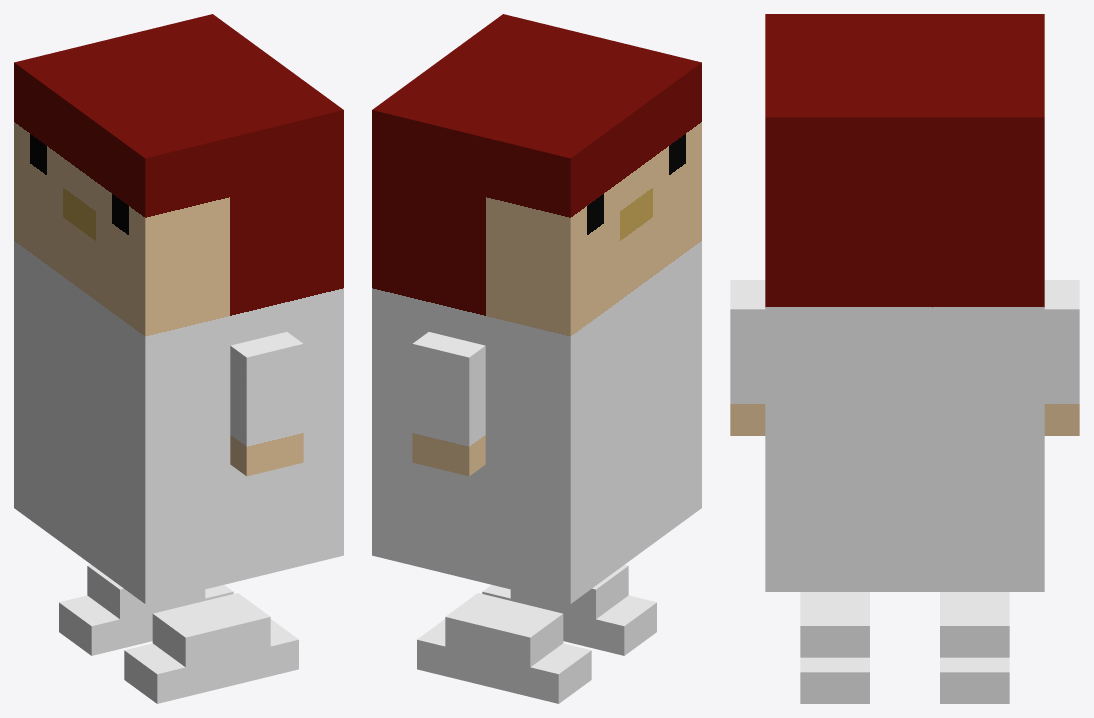
The model's file is Player_0.fbx.
The picture shows the model from 3 angles, left to right: view 1: azimuth 30°, elevation 25°; view 2: azimuth 150°, elevation 25°; view 3: azimuth 270°, elevation 25°; orthographic projection. The views are drawn at different scales.
Visible parts, largest first — view 1: Main, LeftFoot, LeftHand, RightFoot; view 2: Main, RightFoot, RightHand, LeftFoot; view 3: Main, LeftFoot, RightFoot, RightHand, LeftHand.
Boxes of the visible parts, left/top/right/bottom form: Main: left=14, top=14, right=343, bottom=603; LeftFoot: left=124, top=593, right=298, bottom=703; LeftHand: left=230, top=332, right=303, bottom=476; RightFoot: left=59, top=564, right=233, bottom=655; Main: left=372, top=14, right=701, bottom=603; RightFoot: left=417, top=593, right=591, bottom=703; RightHand: left=412, top=332, right=485, bottom=476; LeftFoot: left=482, top=564, right=656, bottom=655; Main: left=765, top=14, right=1044, bottom=591; LeftFoot: left=800, top=592, right=869, bottom=703; RightFoot: left=940, top=592, right=1009, bottom=703; RightHand: left=1044, top=280, right=1079, bottom=435; LeftHand: left=730, top=280, right=765, bottom=435.
Bounding box in the file's own units: 7 × 19 × 10.
1 material, 1 textured.
